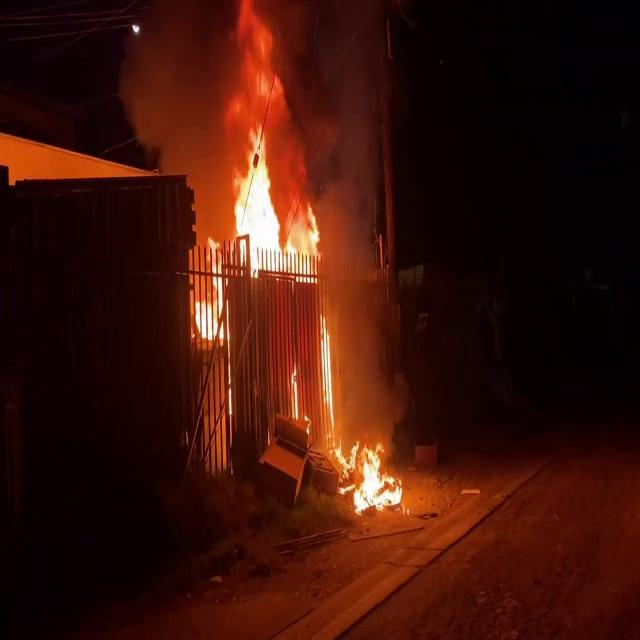Fire: (235, 127, 328, 276), (347, 438, 405, 516), (194, 235, 234, 346), (315, 312, 338, 432)
Smoke: (120, 0, 358, 212), (309, 13, 404, 430)
